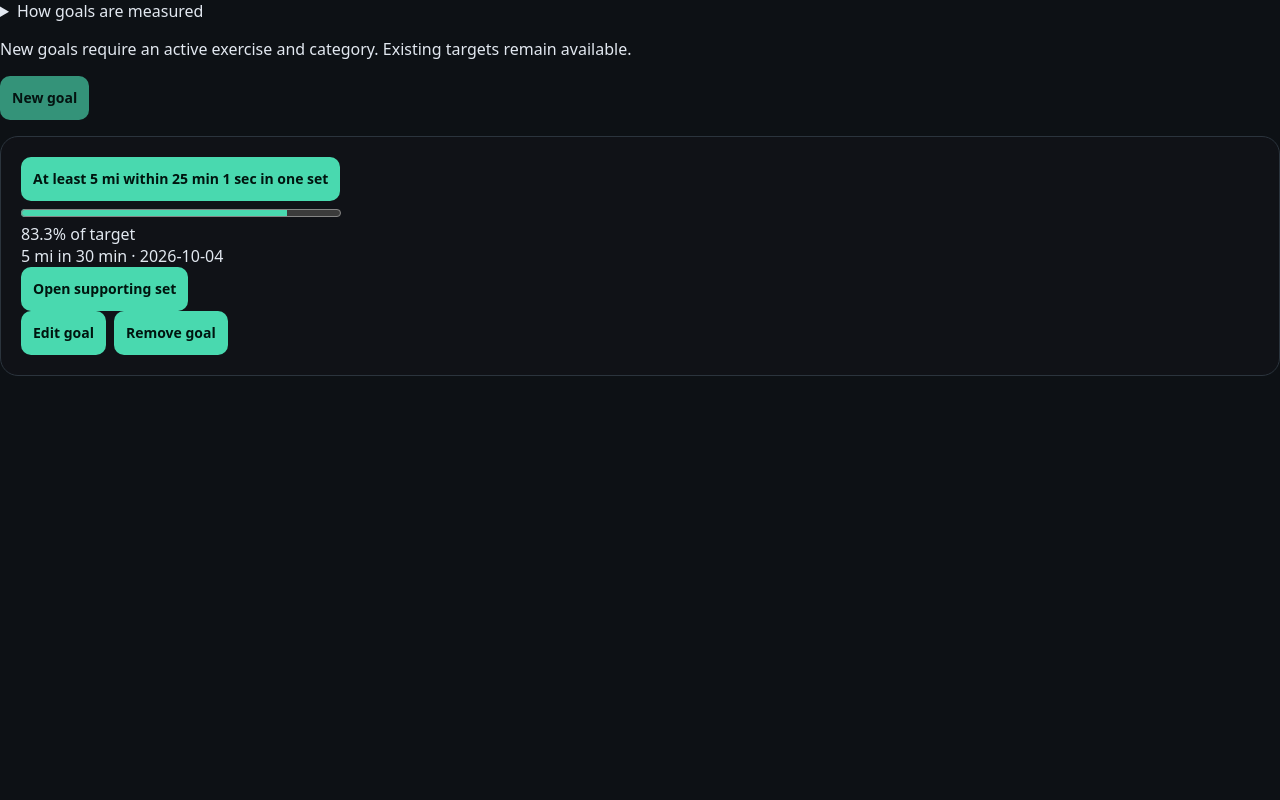
it: edits both combined targets with frozen units after archive/type changes and keeps errors
Expected: the button "At least 5 mi within 25 min 1 sec in one set" is shown, [21,157,340,201]
Expected: the text "5 mi in 30 min · 2026-10-04" is shown, [21,245,223,267]
Click the button "Open supporting set" at (105, 289), box [21,267,188,311]
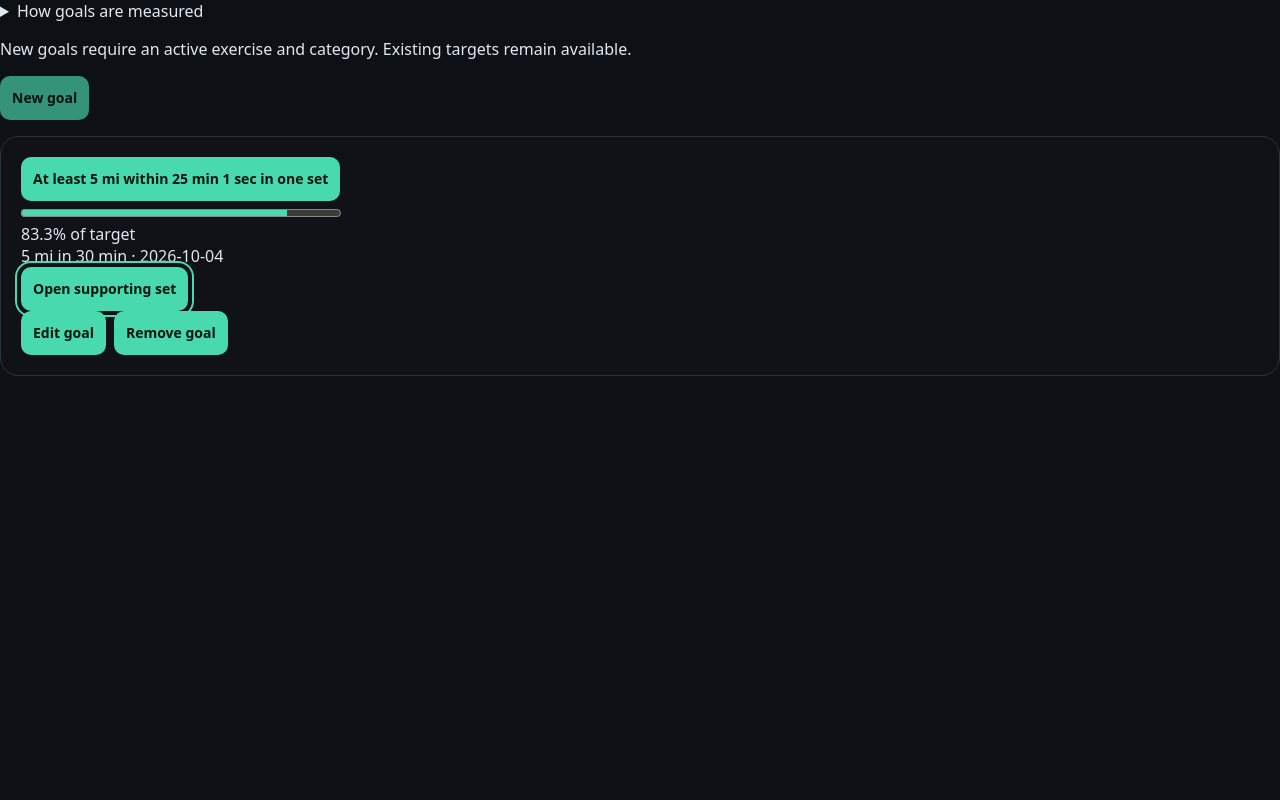
Click the button with aria-label "Edit goal At least" at (64, 333), box [21,311,106,355]
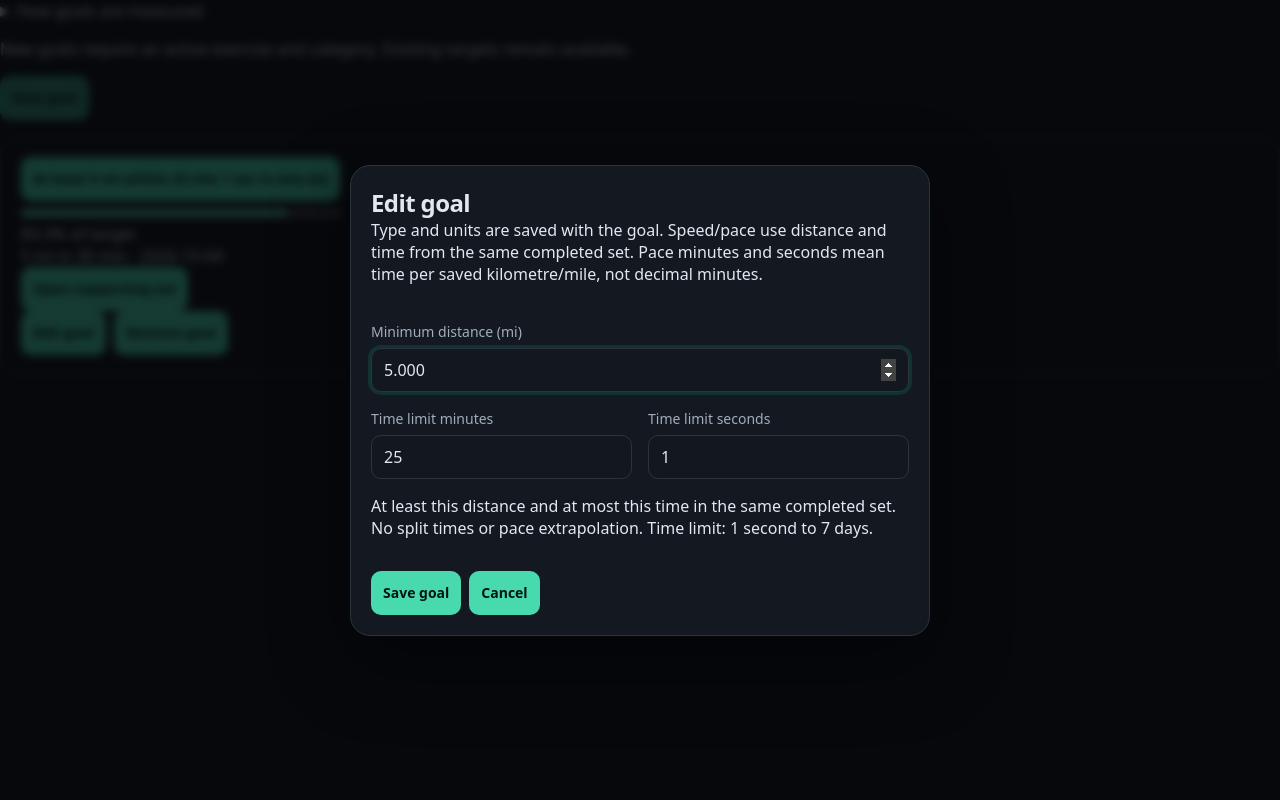
Now the number field labelled "Time limit minutes" holds "25", box [371,434,632,478]
Now the number field labelled "Time limit seconds" holds "1", box [648,434,909,478]
Replace the text in the number field labelled "Minimum distance (mi)" with "6" at (640, 370), box [371,348,909,392]
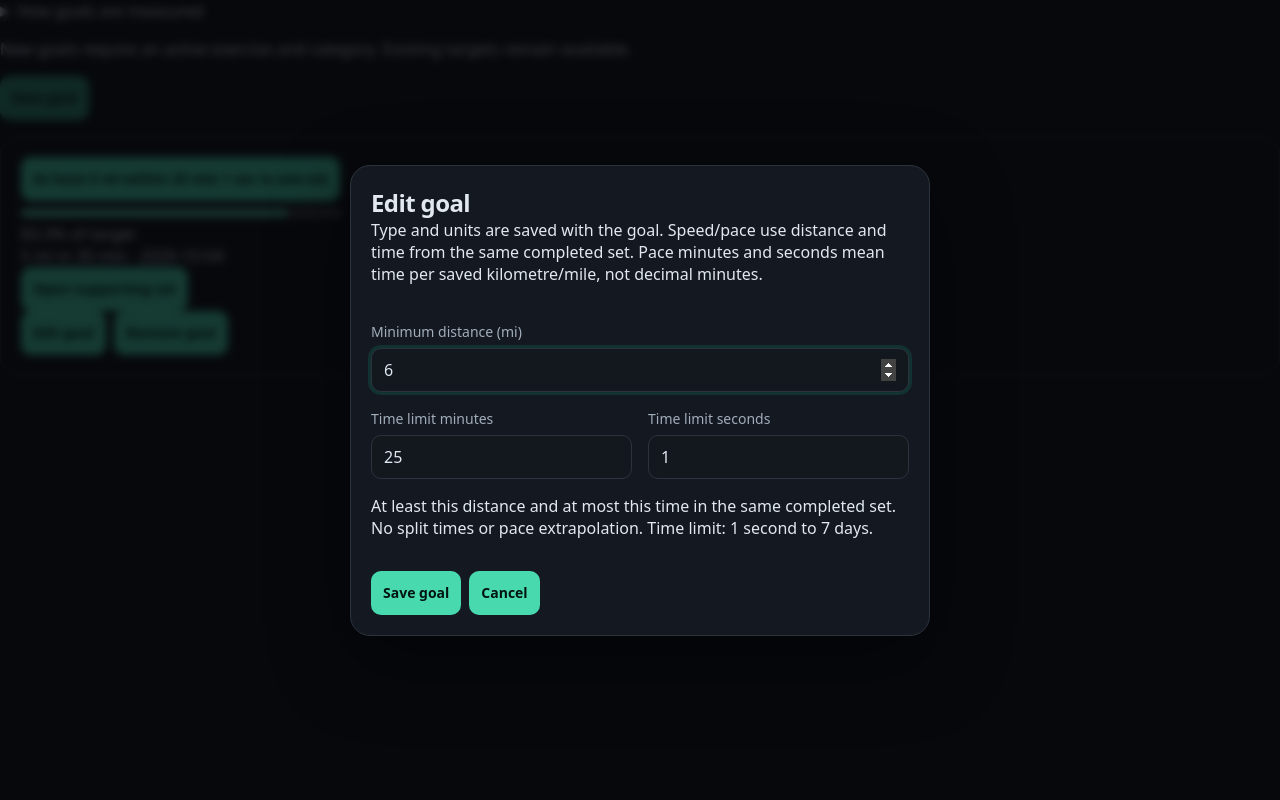
Click the button "Save goal" at (416, 592), box [371,570,461,614]
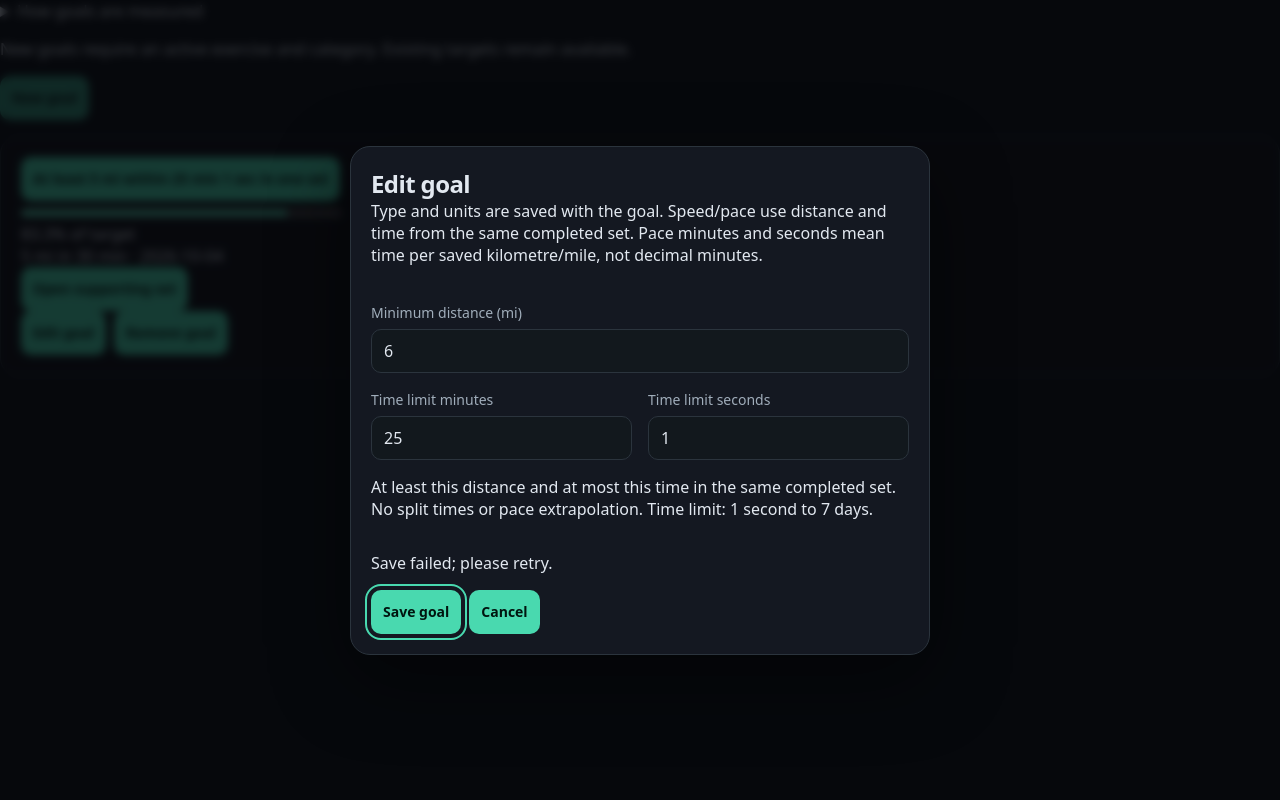
Now the number field labelled "Time limit seconds" holds "1", box [648,416,909,460]
Now the message shows "Save failed", box [371,552,552,574]
